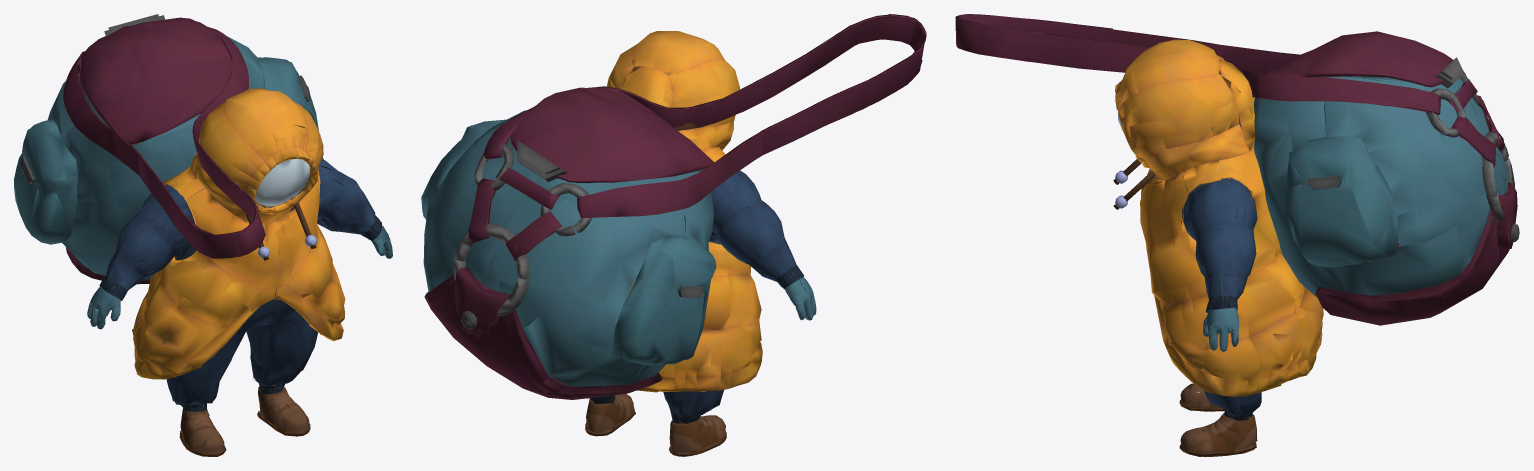
Rendered from drifter-low.glb.
3 renders of one model, left to right at view 1: azimuth 30°, elevation 25°; view 2: azimuth 150°, elevation 25°; view 3: azimuth 270°, elevation 25°, orthographic. The views are drawn at different scales.
Parts seen in each view (by area): view 1: mdlDrifter; view 2: mdlDrifter; view 3: mdlDrifter.
Part boxes in pixels (bbox=[...]): mdlDrifter: bbox=[14, 14, 392, 456]; mdlDrifter: bbox=[421, 14, 926, 456]; mdlDrifter: bbox=[955, 14, 1519, 456].
Bounding box in the file's own units: 1.38 × 1.56 × 2.1.
1 material, 1 textured.
